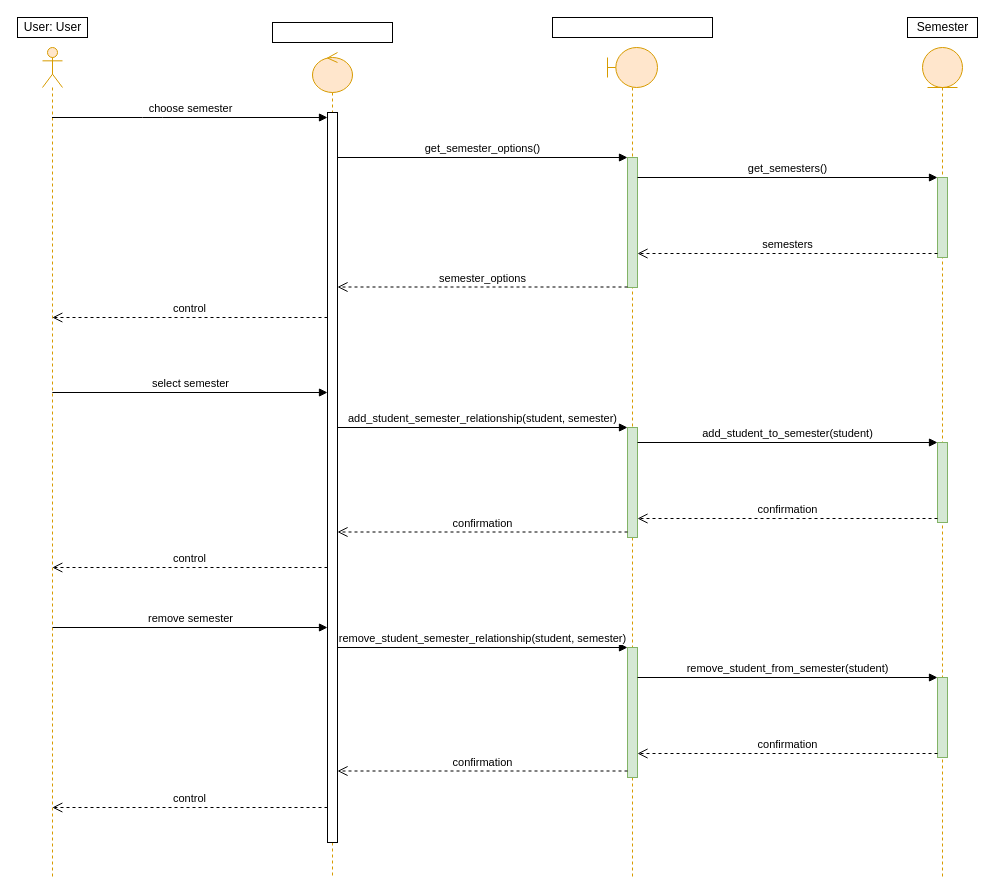
This 995x895 diagram has some shape labels left out. Each missing label, with the centre of its shape:
"Progress Tracker Backend" belongs at pixel 632 27.
"Progress Tracker UI" belongs at pixel 332 32.
